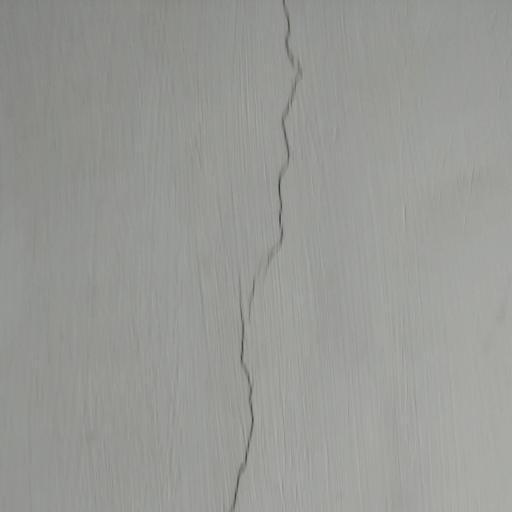minor_crack: (223, 0, 311, 512)
